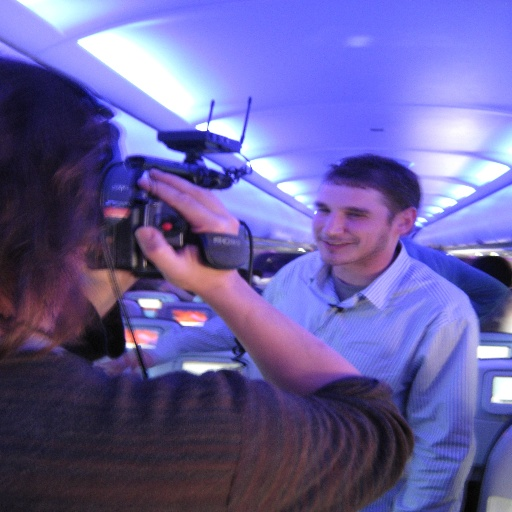hand: (129, 168, 256, 278), (93, 351, 155, 375)
